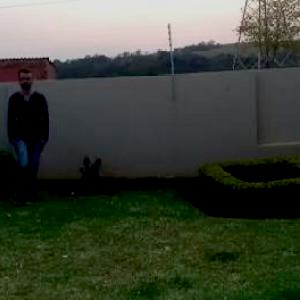follow: (7, 71, 61, 193)
